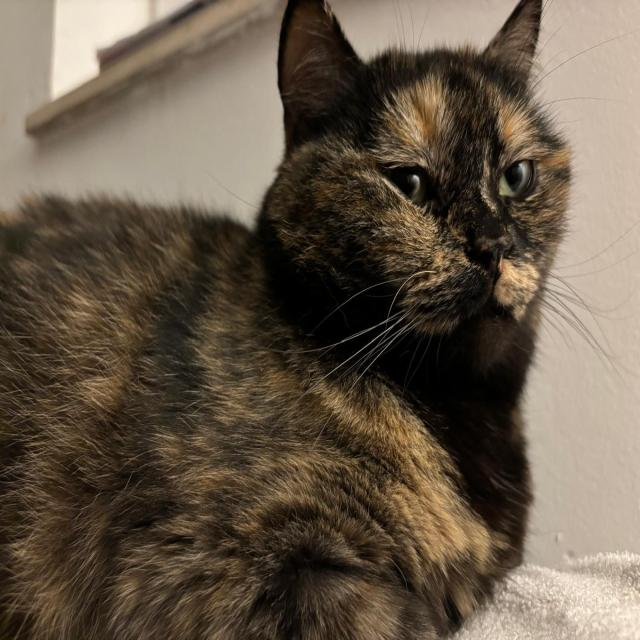authorized: (1, 1, 629, 638)
